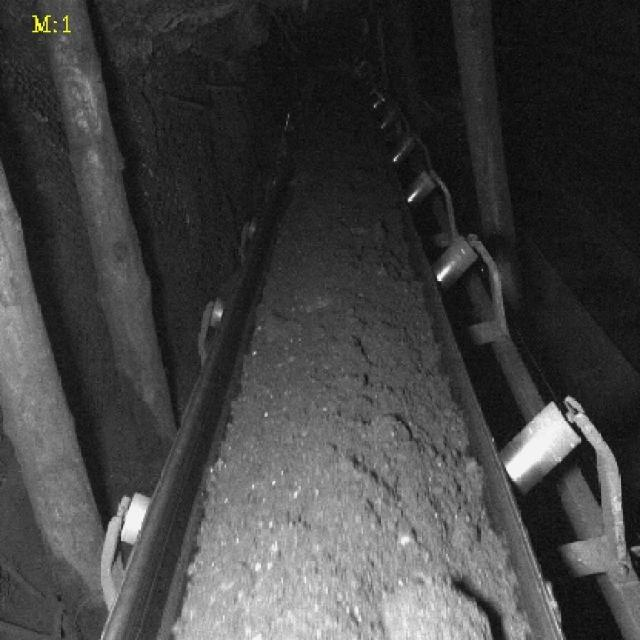large_sized_coal: (383, 581, 494, 640)
